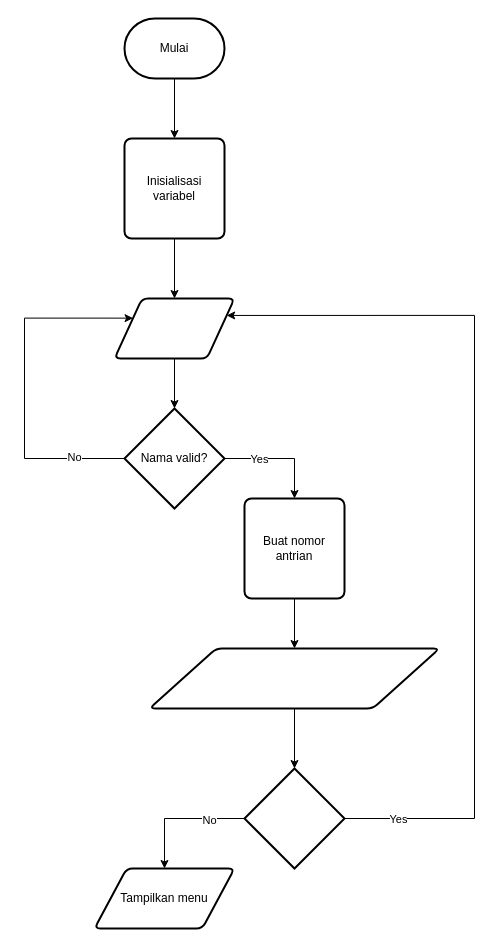
This 500x946 diagram has some shape labels left out. The centre of each missing label's shape, as x and y in pixels:
"Daftar lagi?" belongs at point (294, 818).
"Input nama pelanggan" belongs at point (174, 328).
"Tampilkan nama dan nomor antrian" belongs at point (294, 678).
